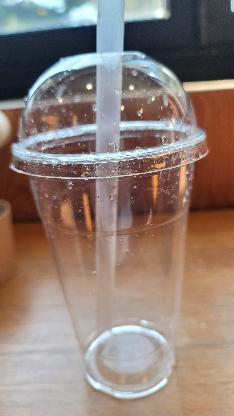Plastic Cup: (12, 49, 210, 399), (11, 51, 211, 181)
